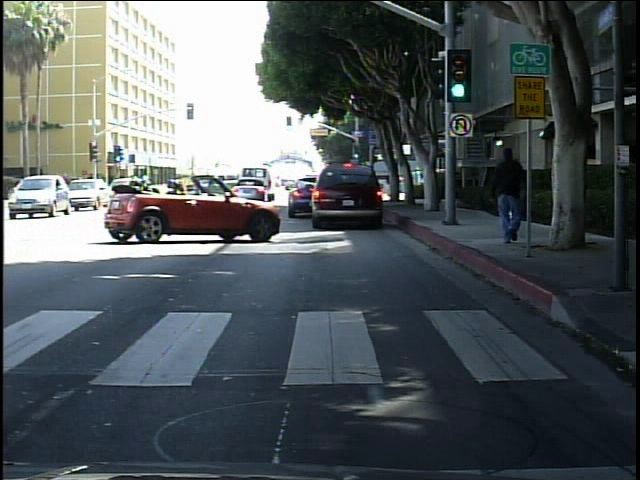person: (491, 138, 531, 244), (500, 148, 525, 229)
